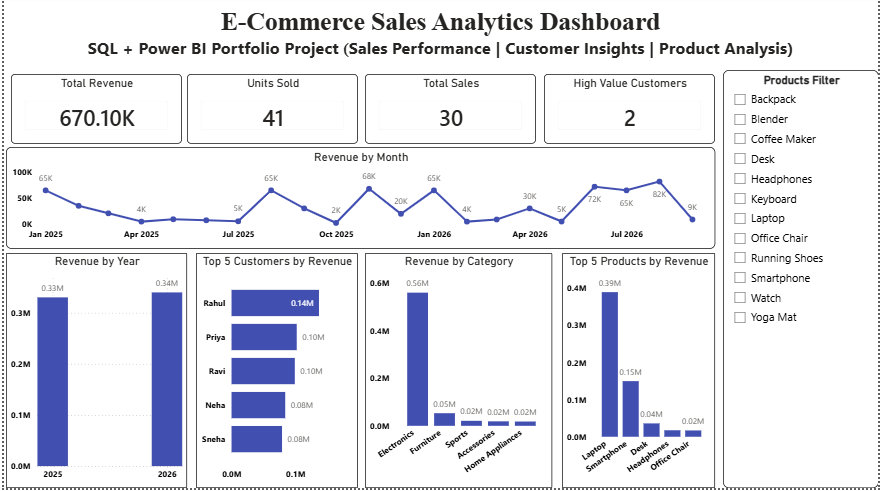

This screenshot's page, from the dashboard's own definition file:
{"tool":"powerbi","page":{"name":"Page 1","canvas":[1280,720],"ordinal":0},"visuals":[{"type":"cardVisual","title":"Total Revenue","fields":{"Data":["project_customers.Total Revenue"]},"box":[10.2,114.1,250.2,102.4],"z":0},{"type":"cardVisual","title":"Units Sold","fields":{"Data":["project_customers.Total Units"]},"box":[267.8,114.1,250.2,102.4],"z":1},{"type":"cardVisual","title":"Total Sales","fields":{"Data":["project_customers.Total Sales"]},"box":[528.3,114.1,250.2,102.4],"z":2},{"type":"lineChart","title":"Revenue by Month","fields":{"Y":["project_customers.Total Revenue"],"Category":["project_sales.sale_date.Variation.Date Hierarchy.Year","project_sales.sale_date.Variation.Date Hierarchy.Month"]},"box":[2.9,221,1037.6,149.3],"z":3},{"type":"clusteredColumnChart","title":"Revenue by Category","fields":{"Y":["project_customers.Total Revenue"],"Category":["project_sales.category"]},"box":[528.3,376.1,273.7,343.9],"z":4},{"type":"columnChart","title":"Top 5 Products by Revenue","fields":{"Category":["project_sales.product"],"Y":["project_customers.Total Revenue"]},"box":[816.6,376.1,223.9,343.9],"z":5},{"type":"clusteredBarChart","title":"Top 5 Customers by Revenue","fields":{"Category":["project_customers.customer_name"],"Y":["project_customers.Total Revenue"]},"box":[281,376.1,237.1,343.9],"z":6},{"type":"cardVisual","title":"High Value Customers","fields":{"Data":["project_customers.High Value Customers"]},"box":[790.2,114.1,250.2,102.4],"z":7},{"type":"columnChart","title":"Revenue by Year","fields":{"Category":["project_sales.sale_date.Variation.Date Hierarchy.Year"],"Y":["project_customers.Total Revenue"]},"box":[2.9,376.1,264.9,343.9],"z":8},{"type":"textbox","box":[19,10.2,1239.5,87.8],"z":9},{"type":"slicer","title":"Products Filter","fields":{"Values":["project_sales.product"]},"box":[1052.2,108.3,228.3,611.7],"z":10}]}

Visuals, with their boxes in screenshot pixels (x1, y1, x2, y2), scaled from the page's 1280x720 canvas onto the 880x491 screenshot:
"Total Revenue" cardVisual: box=[7, 78, 179, 148]
"Units Sold" cardVisual: box=[184, 78, 356, 148]
"Total Sales" cardVisual: box=[363, 78, 535, 148]
"Revenue by Month" lineChart: box=[2, 151, 715, 253]
"Revenue by Category" clusteredColumnChart: box=[363, 256, 551, 490]
"Top 5 Products by Revenue" columnChart: box=[561, 256, 715, 490]
"Top 5 Customers by Revenue" clusteredBarChart: box=[193, 256, 356, 490]
"High Value Customers" cardVisual: box=[543, 78, 715, 148]
"Revenue by Year" columnChart: box=[2, 256, 184, 490]
textbox: box=[13, 7, 865, 67]
"Products Filter" slicer: box=[723, 74, 879, 490]
